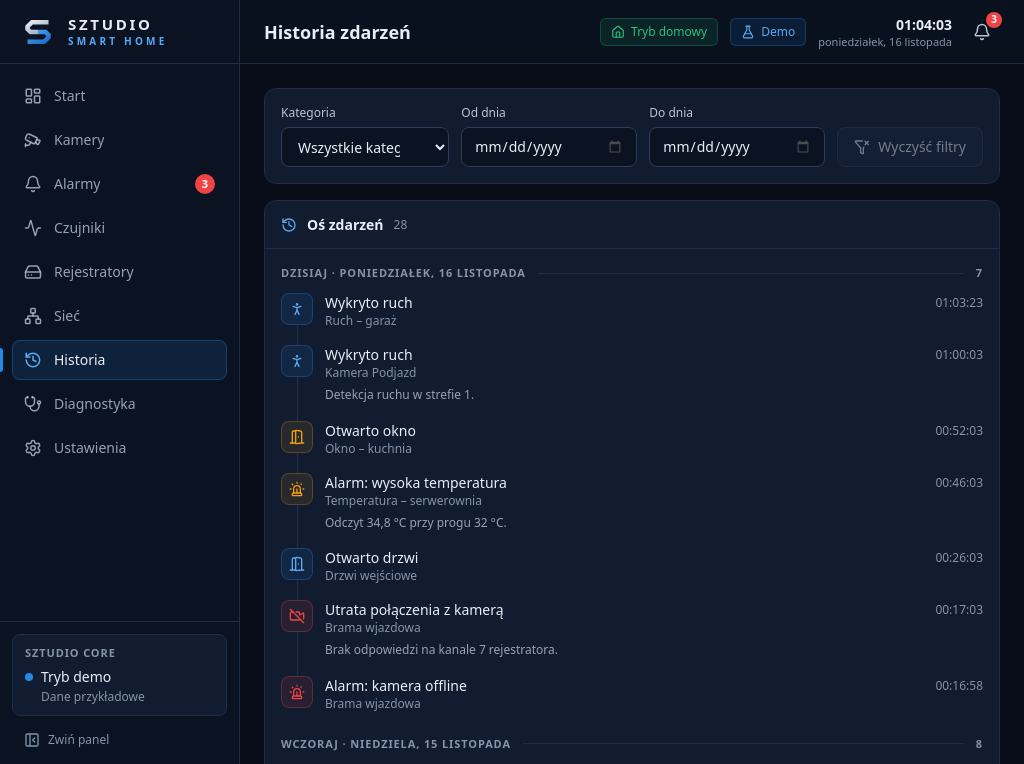
Test: czujniki, sieć, historia › filtruje historię według kategorii i daty
This screenshot has width=1024, height=764.
Later steps or results of the test are not shown.
Step 1. Select "Restart urządzenia" in the dropdown labelled "Kategoria" → point(365, 147), box [281,127,449,167]
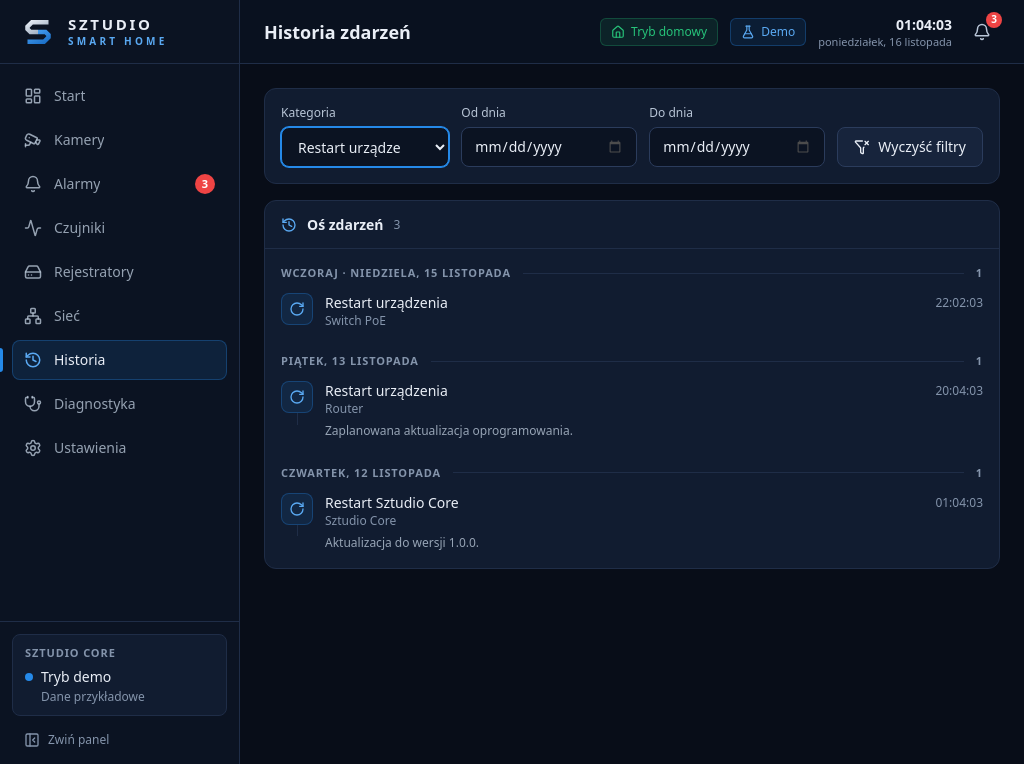
Check: the number of list items is 3, box [281,293,983,329]; [281,381,983,440]; [281,492,983,552]
# Zakres z przyszłości nie zawiera żadnych zdarzeń.
Step 2. Type "2099-01-01" into the date field labelled "Od dnia" → point(549, 147), box [461,127,637,167]
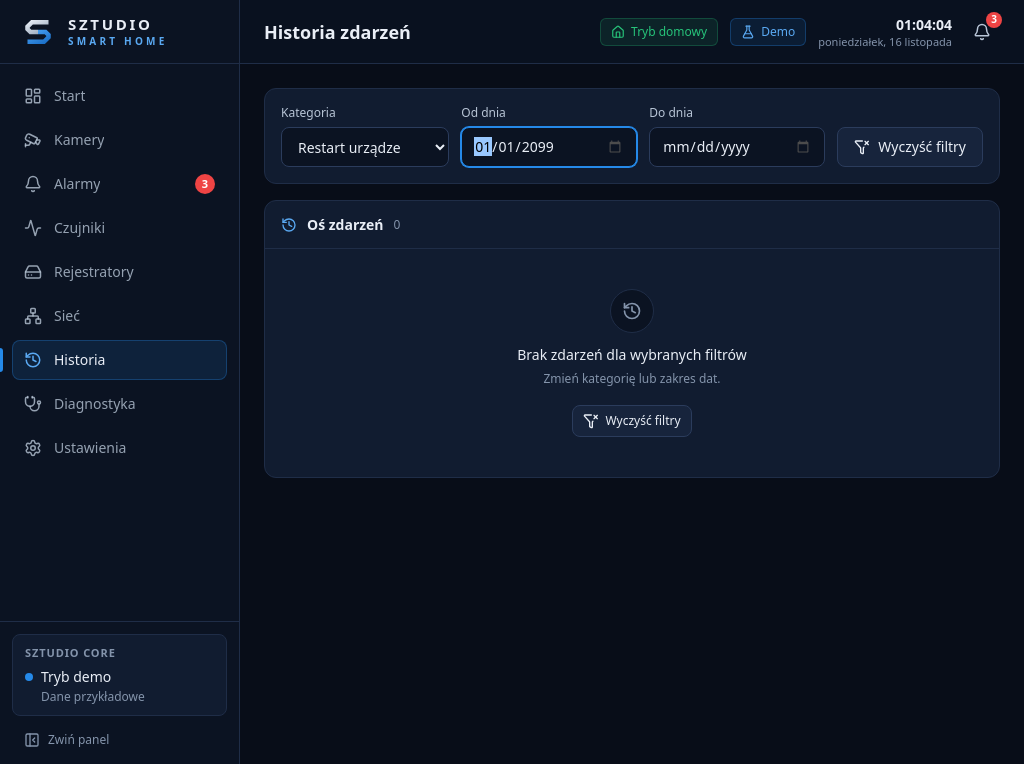
Check: the text "Brak zdarzeń dla wybranych filtrów" is shown, box [517,345,747,365]
